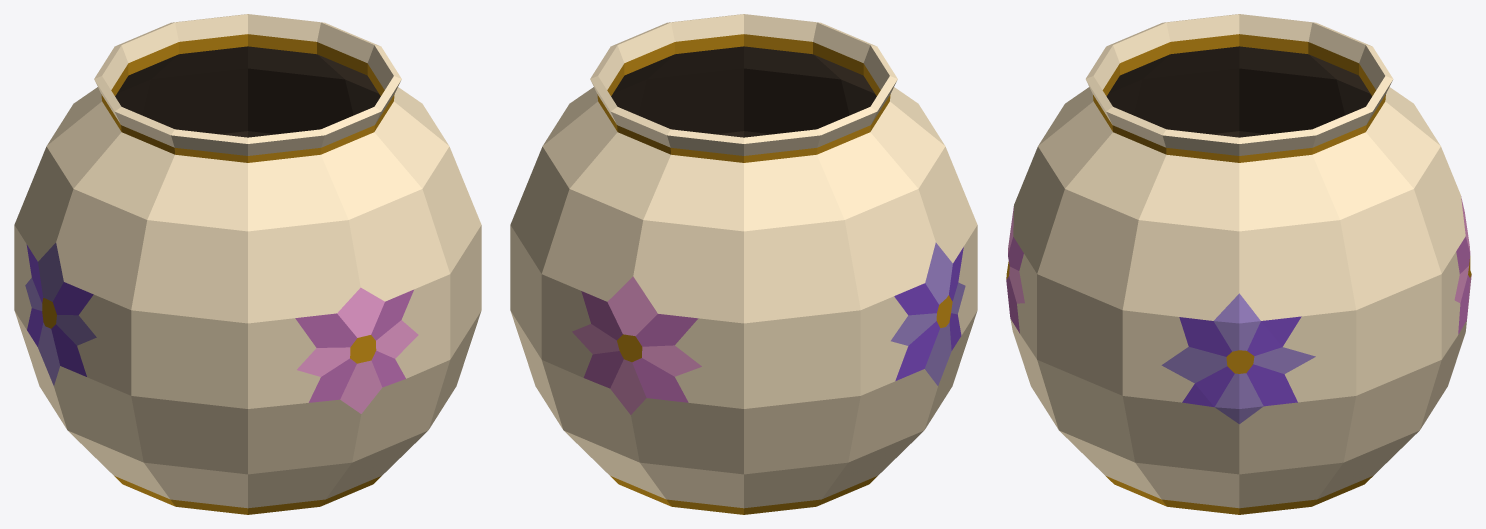
File: vaseB.obj
The picture shows the model from 3 angles, left to right: view 1: azimuth 30°, elevation 25°; view 2: azimuth 150°, elevation 25°; view 3: azimuth 270°, elevation 25°; orthographic projection.
Parts seen in each view (by area): view 1: Circle; view 2: Circle; view 3: Circle.
Boxes of the visible parts, bbox=[...] form: Circle: bbox=[14, 14, 481, 514]; Circle: bbox=[510, 14, 977, 514]; Circle: bbox=[1006, 14, 1471, 514].
Size of the model in its own units: 0.8544 by 0.7625 by 0.8512.
